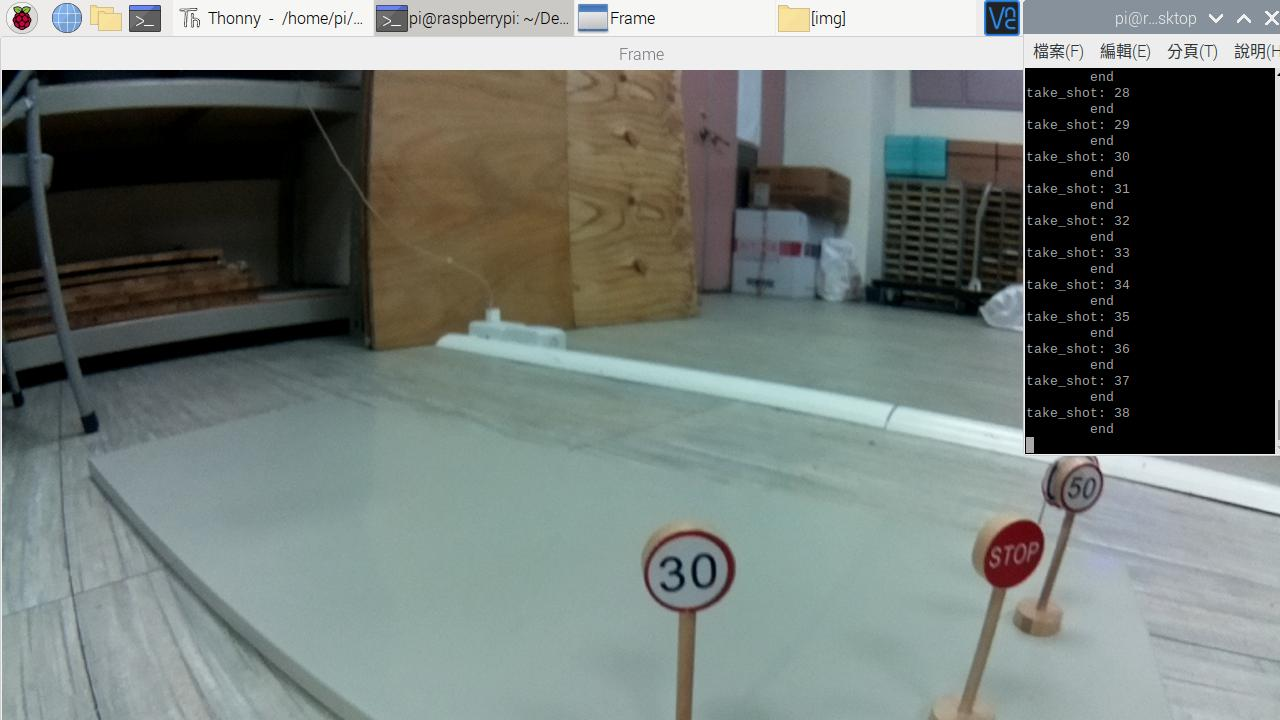Speed30: (644, 533, 731, 609)
Speed50: (1049, 460, 1110, 512)
Stop: (979, 511, 1042, 587)
